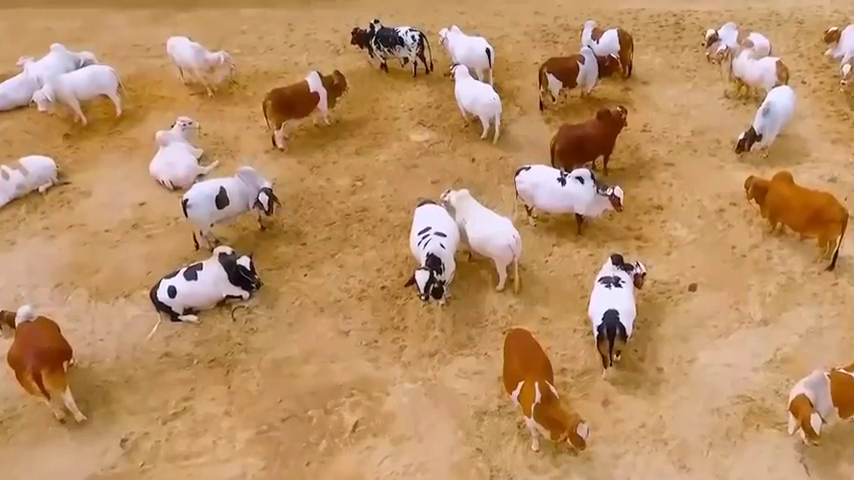bo: (492, 324, 593, 458), (7, 297, 103, 435), (505, 151, 634, 238), (142, 241, 275, 325), (738, 165, 846, 267), (437, 172, 527, 290), (769, 347, 854, 456), (259, 59, 353, 155), (585, 249, 654, 370), (558, 4, 653, 88), (395, 190, 463, 301), (182, 172, 278, 245), (140, 99, 213, 194), (32, 59, 128, 127), (17, 17, 106, 89), (157, 24, 240, 101), (544, 105, 633, 174), (342, 11, 434, 77), (444, 61, 514, 142), (435, 15, 504, 92), (728, 87, 797, 160), (528, 44, 605, 103), (710, 42, 784, 100), (2, 149, 68, 207), (701, 11, 774, 58), (3, 62, 57, 116), (820, 17, 853, 81)
